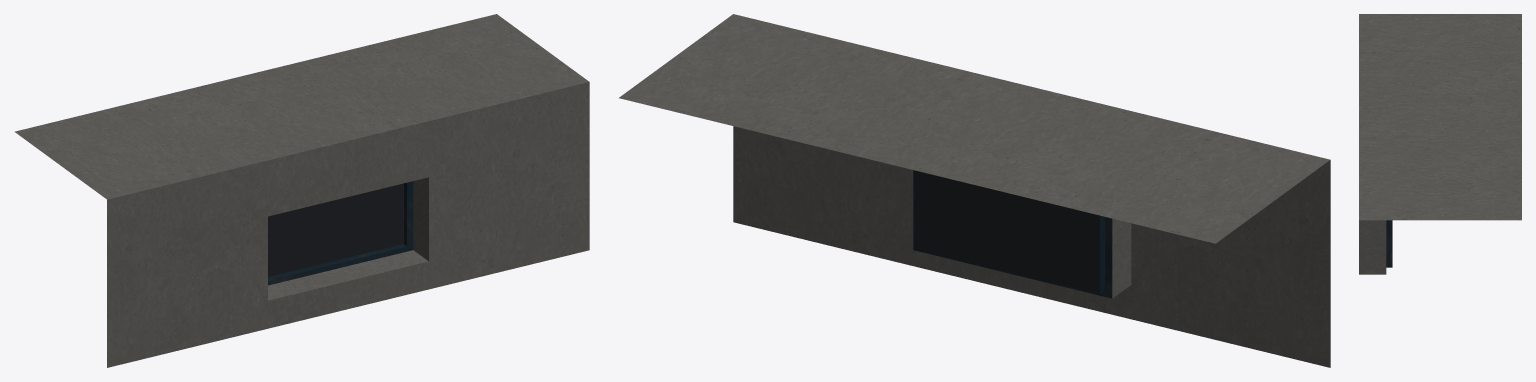
File: sm_cb01_module10.glb
3 views of the same model, side by side, from view 1: azimuth 30°, elevation 25°; view 2: azimuth 150°, elevation 25°; view 3: azimuth 270°, elevation 25° (orthographic). The views are drawn at different scales.
Parts seen in each view (by area): view 1: sm_cb01_module10; view 2: sm_cb01_module10; view 3: sm_cb01_module10.
Boxes of the visible parts, <box> form: sm_cb01_module10: <box>14,14,589,367</box>; sm_cb01_module10: <box>619,14,1330,367</box>; sm_cb01_module10: <box>1359,14,1521,274</box>.
Size of the model in its own units: 9 by 3 by 3.
Materials: 2 (1 with a texture image).
